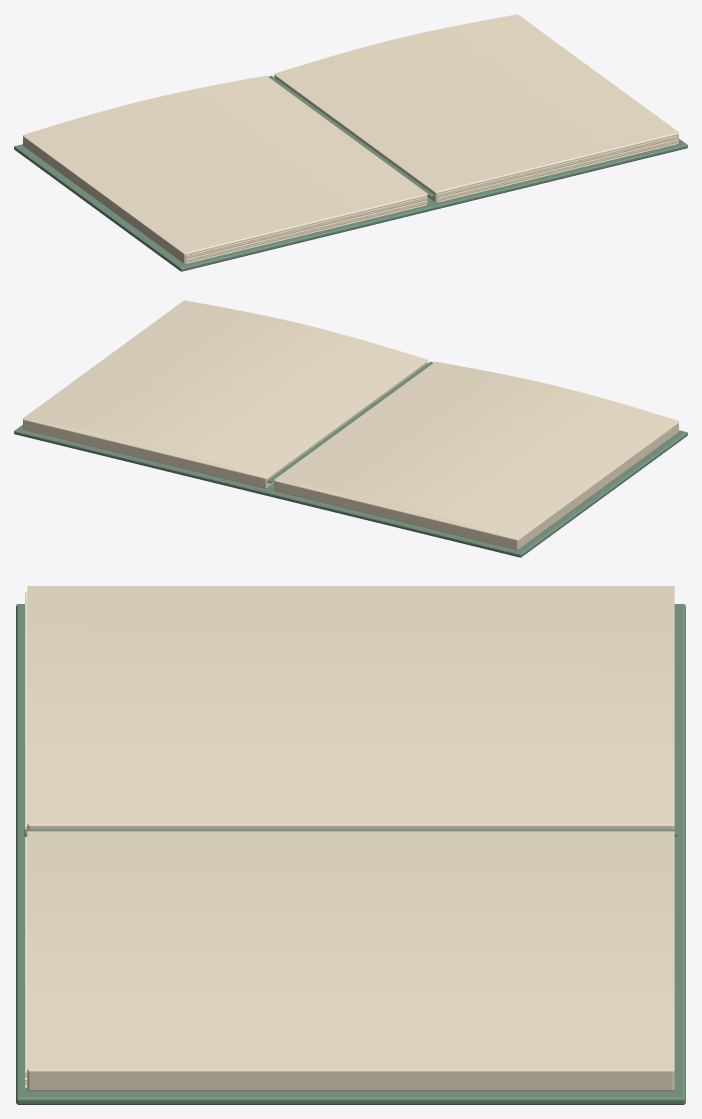
Rendered from urban-picture-book-v1.glb.
3 renders of one model, top to bottom at view 1: azimuth 30°, elevation 25°; view 2: azimuth 150°, elevation 25°; view 3: azimuth 270°, elevation 25°, orthographic. The views are drawn at different scales.
Visible parts, largest first — view 1: Picturebook-page-left, Picturebook-page-right, Picturebook-page-block (×2), Picturebook-cover, Picturebook-cloth-spine; view 2: Picturebook-page-left, Picturebook-page-right, Picturebook-page-block (×2), Picturebook-cover, Picturebook-cloth-spine; view 3: Picturebook-page-left, Picturebook-page-right, Picturebook-cover, Picturebook-page-block (×2), Picturebook-cloth-spine.
Boxes of the visible parts, box(x1,y1,x2,y2) form: Picturebook-page-left: box(22, 75, 427, 253); Picturebook-page-right: box(274, 14, 679, 192); Picturebook-page-block (×2): box(23, 74, 678, 264); Picturebook-cover: box(14, 139, 687, 271); Picturebook-cloth-spine: box(268, 75, 434, 197); Picturebook-page-left: box(274, 361, 679, 539); Picturebook-page-right: box(22, 300, 427, 478); Picturebook-page-block (×2): box(23, 360, 678, 550); Picturebook-cover: box(14, 425, 687, 557); Picturebook-cloth-spine: box(267, 361, 433, 483); Picturebook-page-left: box(27, 586, 674, 824); Picturebook-page-right: box(27, 831, 674, 1069); Picturebook-cover: box(16, 604, 685, 1104); Picturebook-page-block (×2): box(27, 824, 674, 1091); Picturebook-cloth-spine: box(24, 829, 677, 836).
Size of the model in its own units: 0.42 by 0.016 by 0.24.
